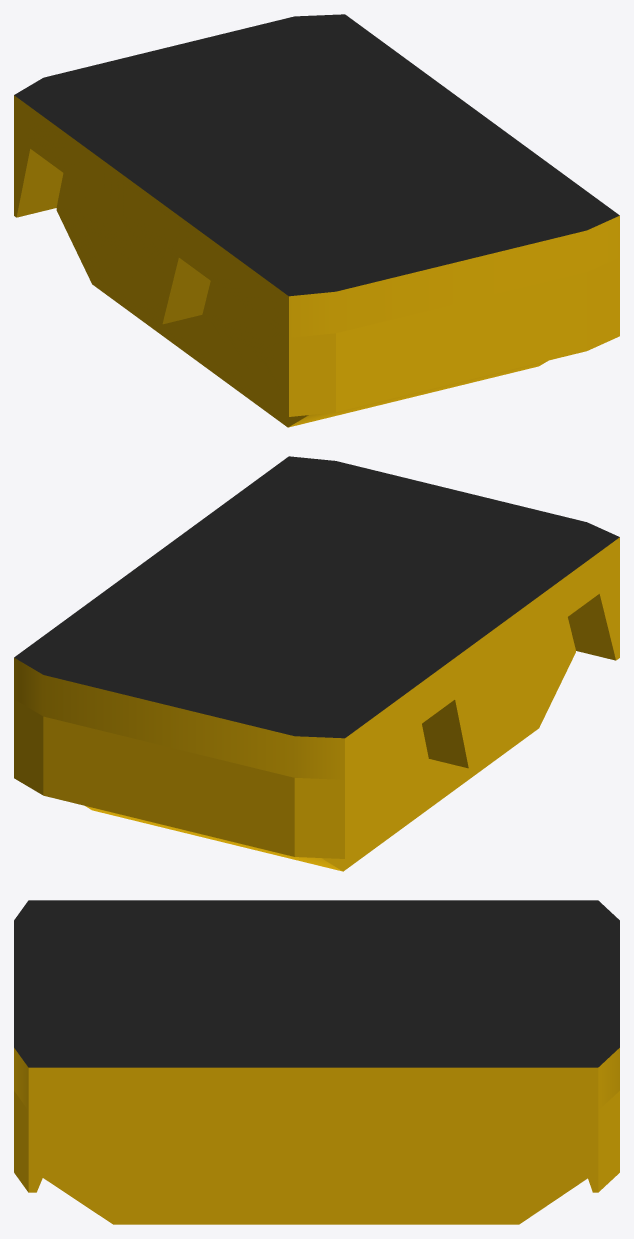
The model's file is chasis.dae.
The picture shows the model from 3 angles, top to bottom: view 1: azimuth 30°, elevation 25°; view 2: azimuth 150°, elevation 25°; view 3: azimuth 270°, elevation 25°; orthographic projection. The views are drawn at different scales.
Visible parts, largest first — view 1: chasis; view 2: chasis; view 3: chasis.
Boxes of the visible parts, x1=… form: chasis: x1=14, y1=14, x2=619, y2=427; chasis: x1=14, y1=456, x2=619, y2=871; chasis: x1=14, y1=900, x2=619, y2=1224.
Size of the model in its own units: 54.05 by 26.68 by 82.68.
